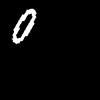chain: (13, 9, 35, 43)
